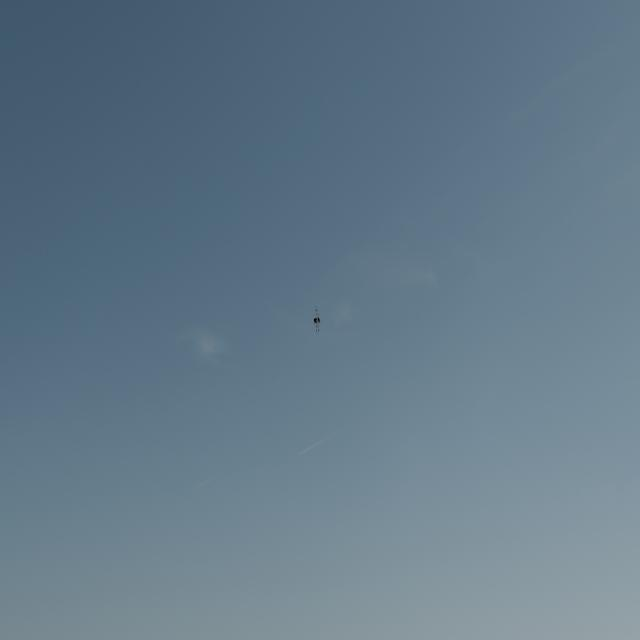drone: (310, 303, 323, 338)
